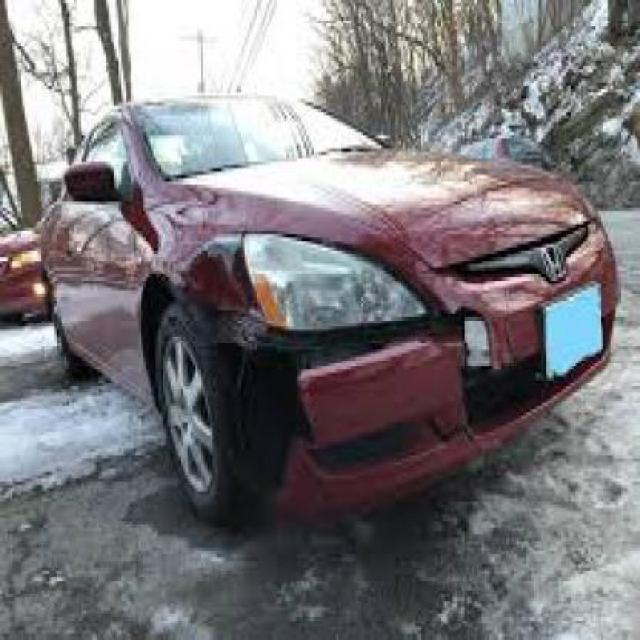damaged-front-bumper: (204, 314, 606, 510)
